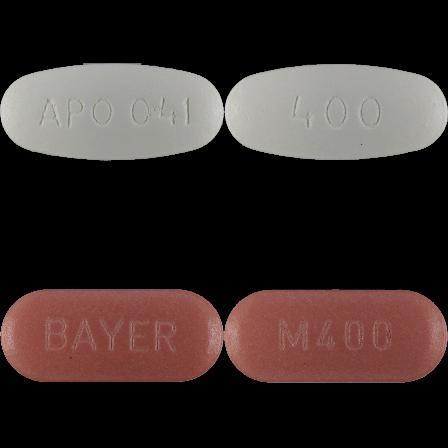43063-578: (0, 0, 224, 224)
